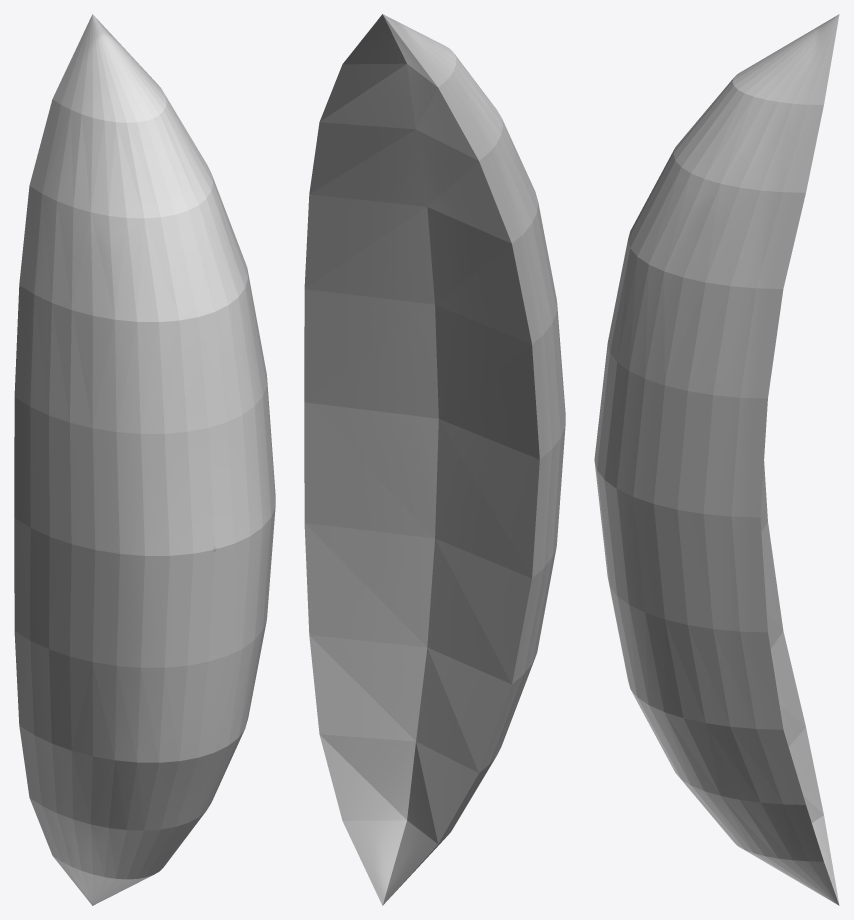
Rendered from slash.obj.
3 renders of one model, left to right at view 1: azimuth 30°, elevation 25°; view 2: azimuth 150°, elevation 25°; view 3: azimuth 270°, elevation 25°, orthographic.
Bounding box in the file's own units: 1.12 × 4.05 × 1.01.
